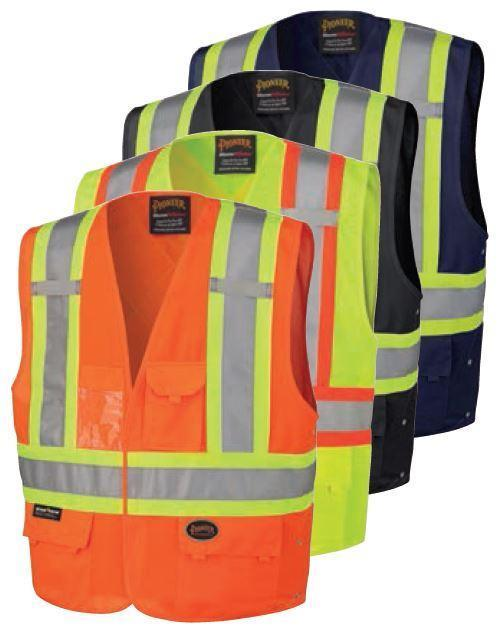vest: (11, 194, 320, 624), (70, 128, 379, 552), (189, 10, 491, 439), (120, 68, 420, 492)
